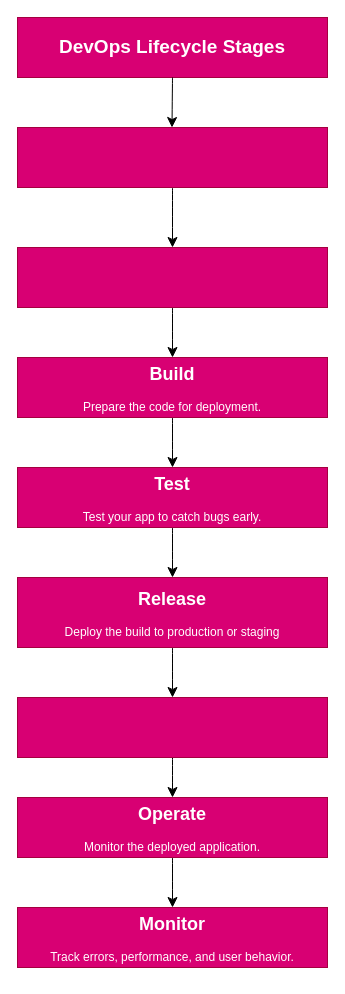
Image size: 345x994. Some labels were removed from this diagram. Here are the shapes that lost their labels. From the top down, the centre of each, then its label:
At (172,157): "Plan Define the features and goals of your web application.".
At (172,277): "Develop Write your HTML, CSS, and JavaScript code.".
At (172,727): "Deploy Make the app live for users.".
